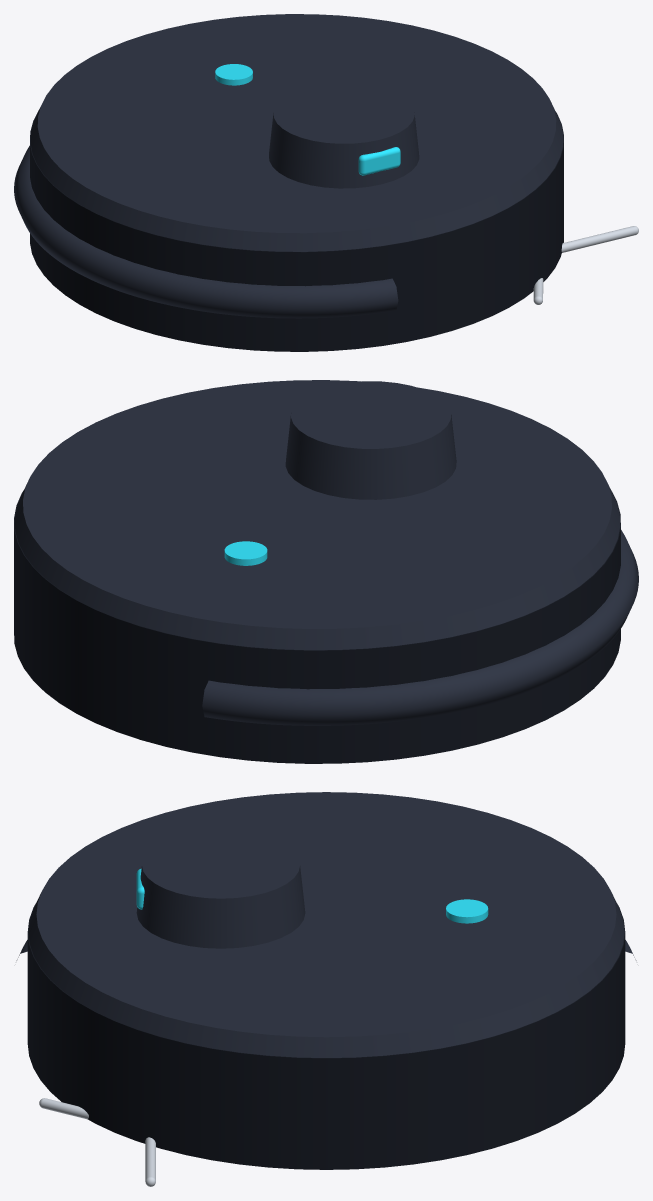
The model's file is robotVacuum.glb.
3 renders of one model, top to bottom at view 1: azimuth 30°, elevation 25°; view 2: azimuth 150°, elevation 25°; view 3: azimuth 270°, elevation 25°, orthographic. The views are drawn at different scales.
Visible parts, largest first — view 1: shellTop, shell, bumper, lidar, brush, robot-vacuum; view 2: shellTop, shell, bumper, lidar, robot-vacuum; view 3: shellTop, shell, lidar, brush, robot-vacuum.
Part boxes in pixels (x1,y1,x2,y2): shellTop: (30, 14, 563, 251); shell: (30, 110, 563, 351); bumper: (14, 145, 398, 318); lidar: (269, 84, 419, 188); brush: (533, 226, 638, 304); robot-vacuum: (215, 64, 252, 85); shellTop: (14, 380, 620, 650); shell: (14, 490, 620, 763); bumper: (202, 530, 638, 725); lidar: (285, 381, 456, 499); robot-vacuum: (224, 541, 267, 565); shellTop: (28, 792, 624, 1057); shell: (27, 903, 625, 1169); lidar: (136, 832, 305, 948); brush: (39, 1098, 155, 1186); robot-vacuum: (446, 899, 488, 923).
Bounding box in the file's own units: 0.373 × 0.122 × 0.3556.
